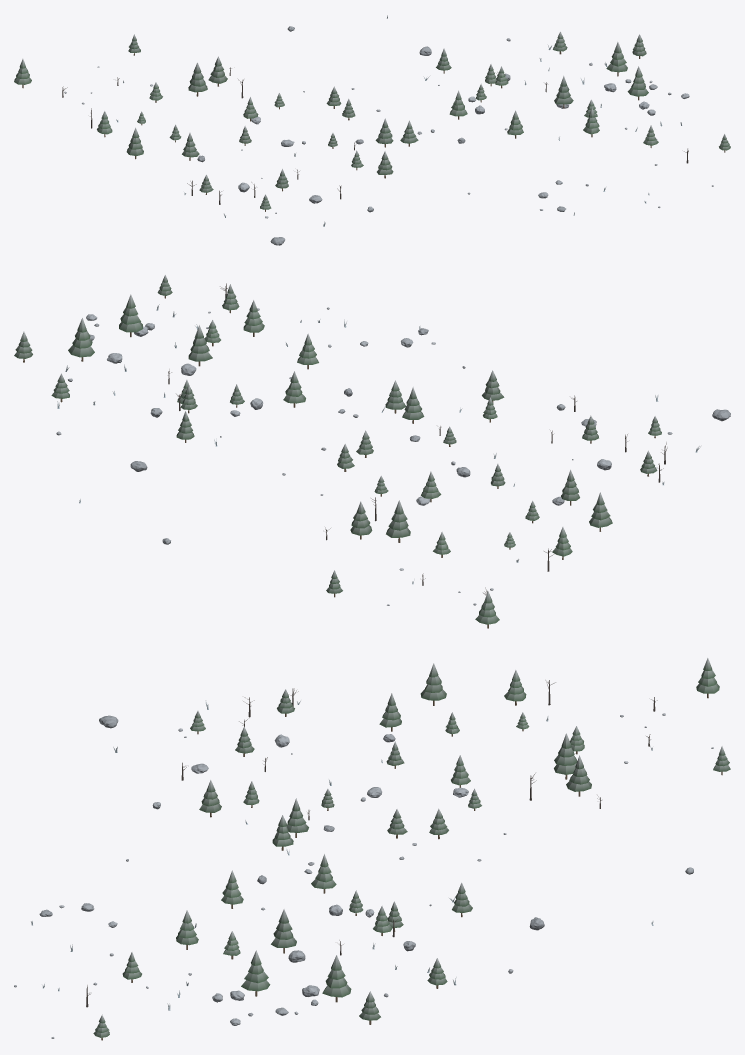
Rendered from frost_land_scatter_c13_11.glb.
3 renders of one model, top to bottom at view 1: azimuth 30°, elevation 25°; view 2: azimuth 150°, elevation 25°; view 3: azimuth 270°, elevation 25°, orthographic. The views are drawn at different scales.
Parts seen in each view (by area): view 1: frost_land_scatter_c13_11; view 2: frost_land_scatter_c13_11; view 3: frost_land_scatter_c13_11.
Boxes of the visible parts, x1,y1,x2,y2 form: frost_land_scatter_c13_11: (14, 15, 730, 245); frost_land_scatter_c13_11: (14, 275, 730, 628); frost_land_scatter_c13_11: (14, 658, 730, 1040).
Bounding box in the file's own units: 256 × 32.18 × 231.
